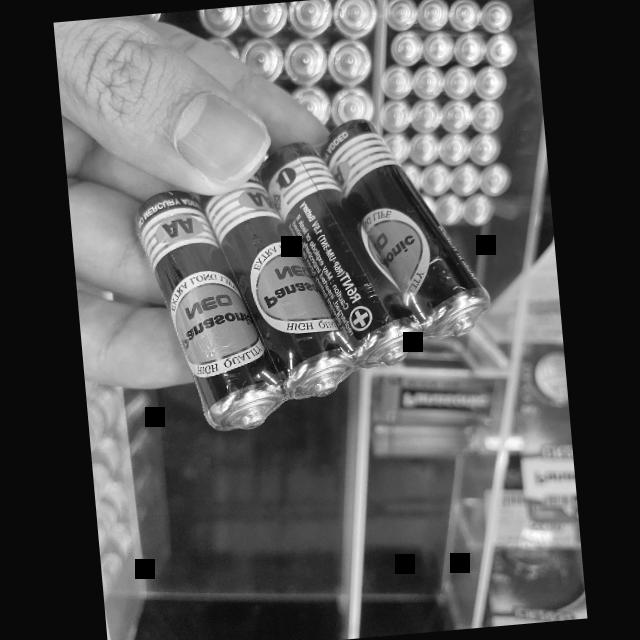battery: (126, 186, 289, 442), (259, 136, 427, 369), (321, 113, 488, 339), (201, 163, 355, 408)
